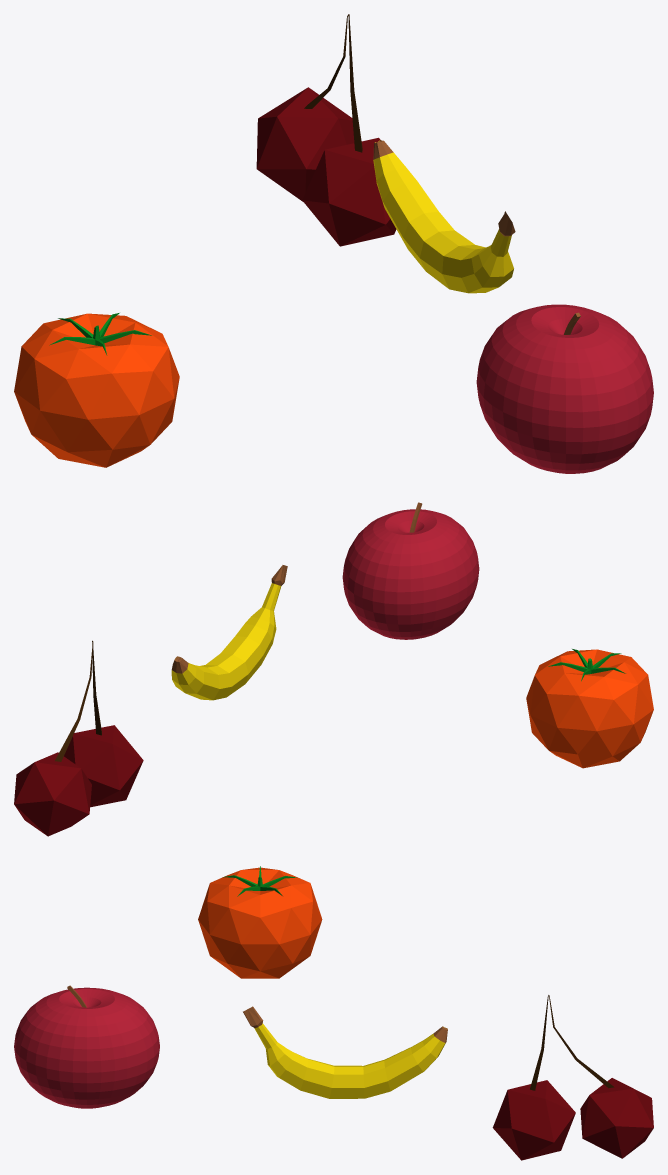
File: frutasjuego.fbx
The picture shows the model from 3 angles, top to bottom: view 1: azimuth 30°, elevation 25°; view 2: azimuth 150°, elevation 25°; view 3: azimuth 270°, elevation 25°; orthographic projection. The views are drawn at different scales.
Parts seen in each view (by area): view 1: Manzana, Tomate, Cereza, Banana; view 2: Manzana, Tomate, Cereza, Banana; view 3: Manzana, Tomate, Cereza, Banana.
Boxes of the visible parts, x1,y1,x2,y2 form: Manzana: [476, 304, 653, 473]; Tomate: [14, 313, 179, 467]; Cereza: [256, 14, 396, 246]; Banana: [373, 140, 515, 293]; Manzana: [342, 502, 479, 639]; Tomate: [526, 649, 653, 768]; Cereza: [14, 640, 143, 836]; Banana: [171, 565, 287, 700]; Manzana: [14, 985, 159, 1108]; Tomate: [198, 866, 322, 978]; Cereza: [492, 995, 653, 1160]; Banana: [243, 1006, 447, 1098].
Bounding box in the file's own units: 779 × 278 × 1030.
6 materials, 2 textured.
